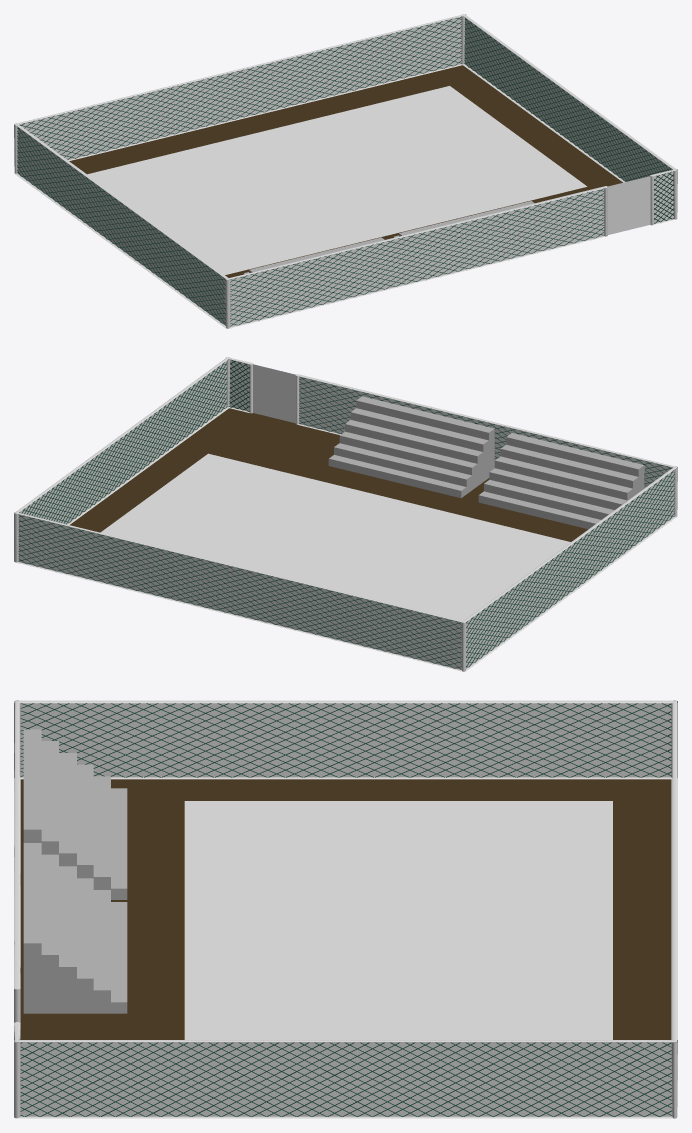
The model's file is ffield22.fbx.
3 renders of one model, top to bottom at view 1: azimuth 30°, elevation 25°; view 2: azimuth 150°, elevation 25°; view 3: azimuth 270°, elevation 25°, orthographic. The views are drawn at different scales.
Parts seen in each view (by area): view 1: Cube.004, Plane, Cube, Cube.001, direk, Cube.006, Cube.005, Cube.002, Cube.003; view 2: Cube.004, Plane, Cube, Cube.001, Cube.003, Cube.002, direk, Cube.006, Cube.005; view 3: Plane, Cube.004, Cube.001, Cube, Cube.006, Cube.003, direk, Cube.002.
Boxes of the visible parts, bbox=[...] form: Cube.004: bbox=[17, 16, 673, 326]; Plane: bbox=[87, 86, 587, 274]; Cube: bbox=[17, 16, 673, 326]; Cube.001: bbox=[69, 65, 622, 277]; direk: bbox=[14, 14, 677, 328]; Cube.006: bbox=[71, 66, 622, 276]; Cube.005: bbox=[230, 174, 672, 325]; Cube.002: bbox=[243, 237, 384, 274]; Cube.003: bbox=[393, 201, 534, 237]; Cube.004: bbox=[18, 359, 674, 669]; Plane: bbox=[100, 453, 570, 620]; Cube: bbox=[18, 359, 674, 669]; Cube.001: bbox=[70, 408, 587, 541]; Cube.003: bbox=[328, 396, 494, 498]; Cube.002: bbox=[478, 433, 644, 529]; direk: bbox=[14, 357, 677, 671]; Cube.006: bbox=[70, 409, 522, 532]; Cube.005: bbox=[230, 360, 671, 486]; Plane: bbox=[184, 801, 612, 1039]; Cube.004: bbox=[17, 703, 674, 1116]; Cube.001: bbox=[20, 779, 671, 1039]; Cube: bbox=[19, 703, 672, 1116]; Cube.006: bbox=[20, 779, 671, 1039]; Cube.003: bbox=[23, 843, 127, 1013]; direk: bbox=[14, 700, 677, 1118]; Cube.002: bbox=[23, 729, 127, 899].
Size of the model in its own units: 567 by 58.94 by 464.
